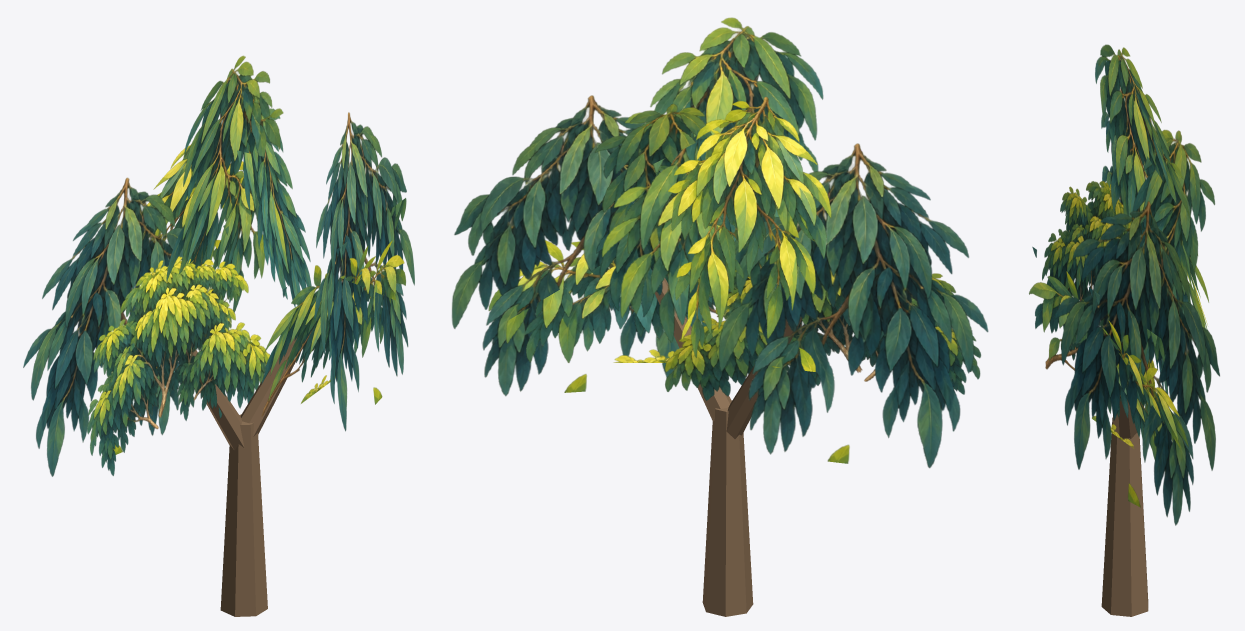
File: TREE_NATIVE_ROUNDED_001_SHAPE_SAFE_LOD_GAMEPLAY.glb
3 renders of one model, left to right at view 1: azimuth 30°, elevation 25°; view 2: azimuth 150°, elevation 25°; view 3: azimuth 270°, elevation 25°, orthographic. The views are drawn at different scales.
Visible parts, largest first — view 1: GG_NATIVE_SHAPE_SAFE_CARD_04, GG_NATIVE_SHAPE_SAFE_CARD_03, GG_NATIVE_SHAPE_SAFE_CARD_05, GG_NATIVE_SHAPE_SAFE_CARD_00, GG_NATIVE_SHAPE_SAFE_CARD_06, GG_NATIVE_V4_LOCKED_CARCASS_00, GG_NATIVE_SHAPE_SAFE_CARD_02, GG_NATIVE_SHAPE_SAFE_CARD_01, GG_NATIVE_V4_LOCKED_CARCASS_02, GG_NATIVE_V4_LOCKED_CARCASS_01; view 2: GG_NATIVE_SHAPE_SAFE_CARD_03, GG_NATIVE_SHAPE_SAFE_CARD_05, GG_NATIVE_SHAPE_SAFE_CARD_01, GG_NATIVE_SHAPE_SAFE_CARD_00, GG_NATIVE_SHAPE_SAFE_CARD_04, GG_NATIVE_SHAPE_SAFE_CARD_06, GG_NATIVE_SHAPE_SAFE_CARD_02, GG_NATIVE_V4_LOCKED_CARCASS_00, GG_NATIVE_V4_LOCKED_CARCASS_01, GG_NATIVE_V4_LOCKED_CARCASS_02; view 3: GG_NATIVE_SHAPE_SAFE_CARD_05, GG_NATIVE_SHAPE_SAFE_CARD_00, GG_NATIVE_V4_LOCKED_CARCASS_00, GG_NATIVE_SHAPE_SAFE_CARD_02, GG_NATIVE_SHAPE_SAFE_CARD_06, GG_NATIVE_SHAPE_SAFE_CARD_04, GG_NATIVE_SHAPE_SAFE_CARD_03, GG_NATIVE_V4_LOCKED_CARCASS_02.
Part boxes in pixels (x1,y1,x2,y2): GG_NATIVE_SHAPE_SAFE_CARD_04: (87,225,269,475); GG_NATIVE_SHAPE_SAFE_CARD_03: (23,177,206,476); GG_NATIVE_SHAPE_SAFE_CARD_05: (314,112,414,431); GG_NATIVE_SHAPE_SAFE_CARD_00: (166,55,283,312); GG_NATIVE_SHAPE_SAFE_CARD_06: (261,198,406,416); GG_NATIVE_V4_LOCKED_CARCASS_00: (220,414,267,616); GG_NATIVE_SHAPE_SAFE_CARD_02: (237,97,311,306); GG_NATIVE_SHAPE_SAFE_CARD_01: (142,143,243,266); GG_NATIVE_V4_LOCKED_CARCASS_02: (240,336,301,436); GG_NATIVE_V4_LOCKED_CARCASS_01: (186,349,244,450); GG_NATIVE_SHAPE_SAFE_CARD_03: (719,143,988,468); GG_NATIVE_SHAPE_SAFE_CARD_05: (451,95,696,396); GG_NATIVE_SHAPE_SAFE_CARD_01: (668,97,831,371); GG_NATIVE_SHAPE_SAFE_CARD_00: (602,17,823,342); GG_NATIVE_SHAPE_SAFE_CARD_04: (665,223,980,404); GG_NATIVE_SHAPE_SAFE_CARD_06: (488,217,733,362); GG_NATIVE_SHAPE_SAFE_CARD_02: (595,104,711,316); GG_NATIVE_V4_LOCKED_CARCASS_00: (702,400,753,616); GG_NATIVE_V4_LOCKED_CARCASS_01: (726,317,802,438); GG_NATIVE_V4_LOCKED_CARCASS_02: (654,277,731,421); GG_NATIVE_SHAPE_SAFE_CARD_05: (1055,201,1219,525); GG_NATIVE_SHAPE_SAFE_CARD_00: (1095,44,1208,341); GG_NATIVE_V4_LOCKED_CARCASS_00: (1101,417,1148,616); GG_NATIVE_SHAPE_SAFE_CARD_02: (1132,129,1214,377); GG_NATIVE_SHAPE_SAFE_CARD_06: (1029,247,1188,460); GG_NATIVE_SHAPE_SAFE_CARD_04: (1042,181,1155,410); GG_NATIVE_SHAPE_SAFE_CARD_03: (1101,88,1168,394); GG_NATIVE_V4_LOCKED_CARCASS_02: (1113,398,1137,438).
Size of the model in its own units: 36.08 by 41.89 by 14.28.
2 materials, 1 textured.
